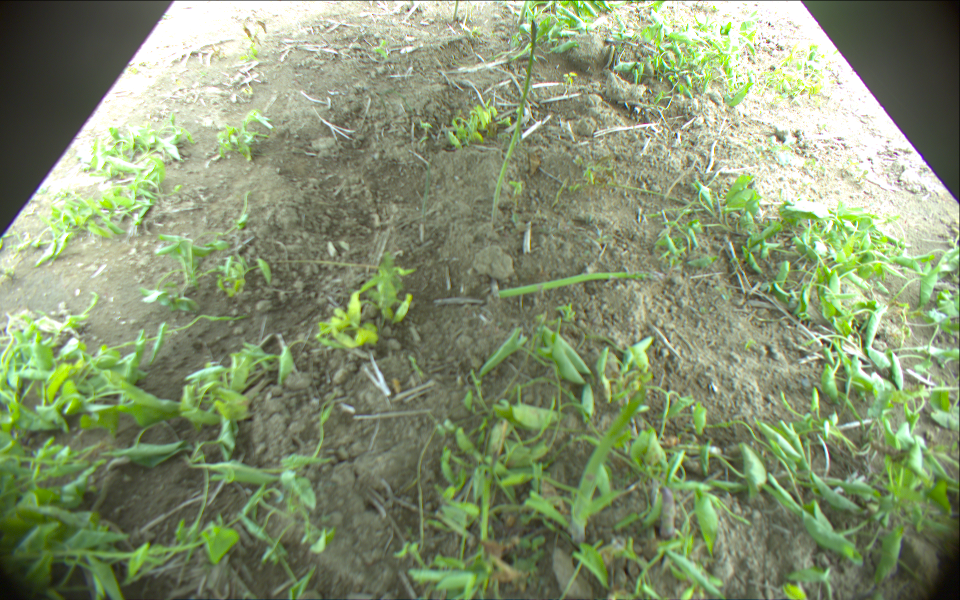aspa: (572, 387, 648, 540), (491, 18, 542, 224), (494, 270, 668, 297), (659, 485, 676, 537), (518, 1, 531, 23), (452, 1, 459, 21)
